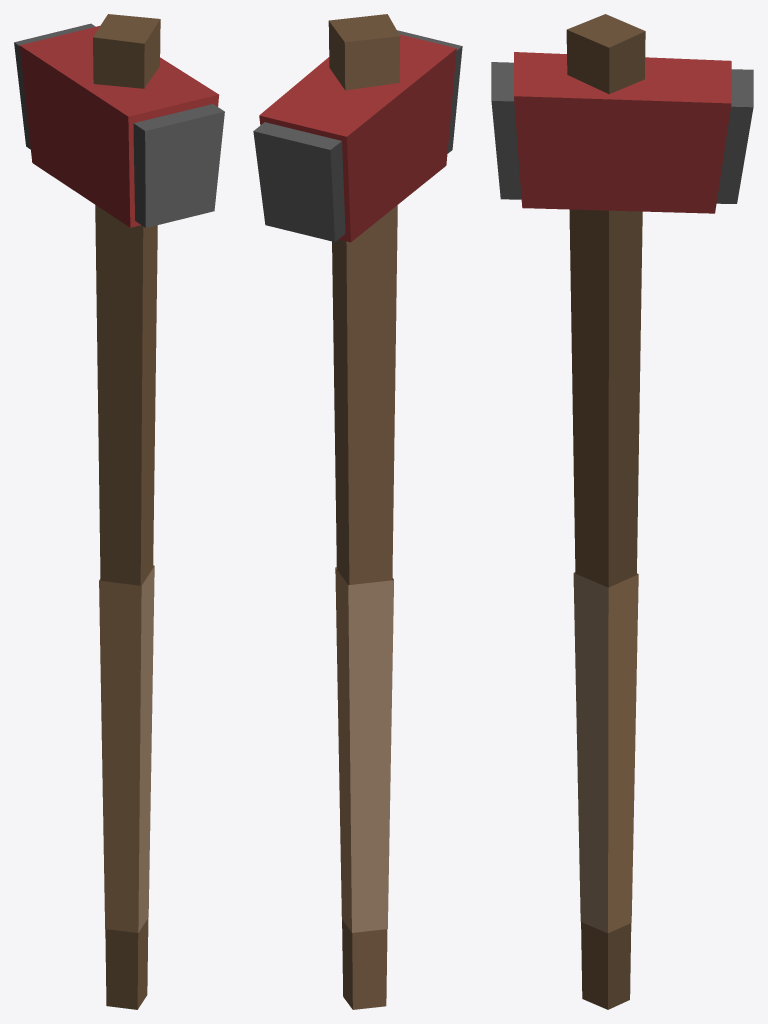
Rendered from Item_Maul00.FBX.
3 renders of one model, left to right at view 1: azimuth 30°, elevation 25°; view 2: azimuth 150°, elevation 25°; view 3: azimuth 270°, elevation 25°, orthographic.
Parts seen in each view (by area): view 1: Item_Maul00; view 2: Item_Maul00; view 3: Item_Maul00.
Part boxes in pixels (<box>): Item_Maul00: <box>14,14,224,1009</box>; Item_Maul00: <box>253,14,462,1009</box>; Item_Maul00: <box>491,14,753,1009</box>.
Bounding box in the file's own units: 8.73 × 89.24 × 21.88.
